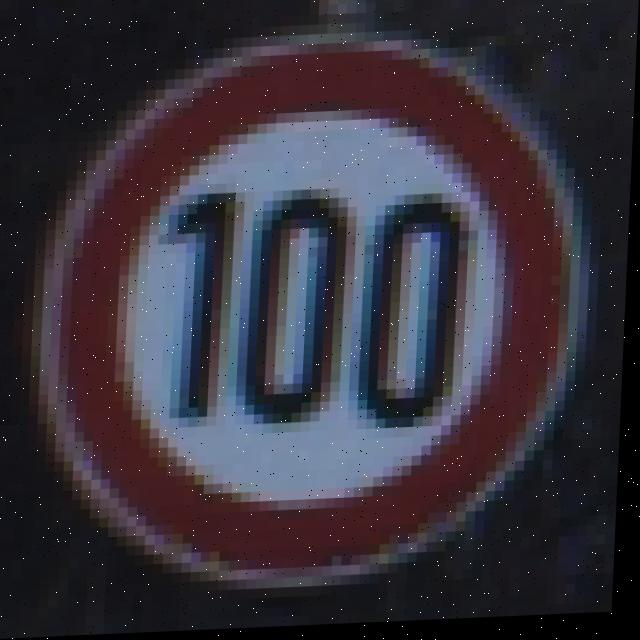speed_limit_100: (67, 4, 610, 615)
